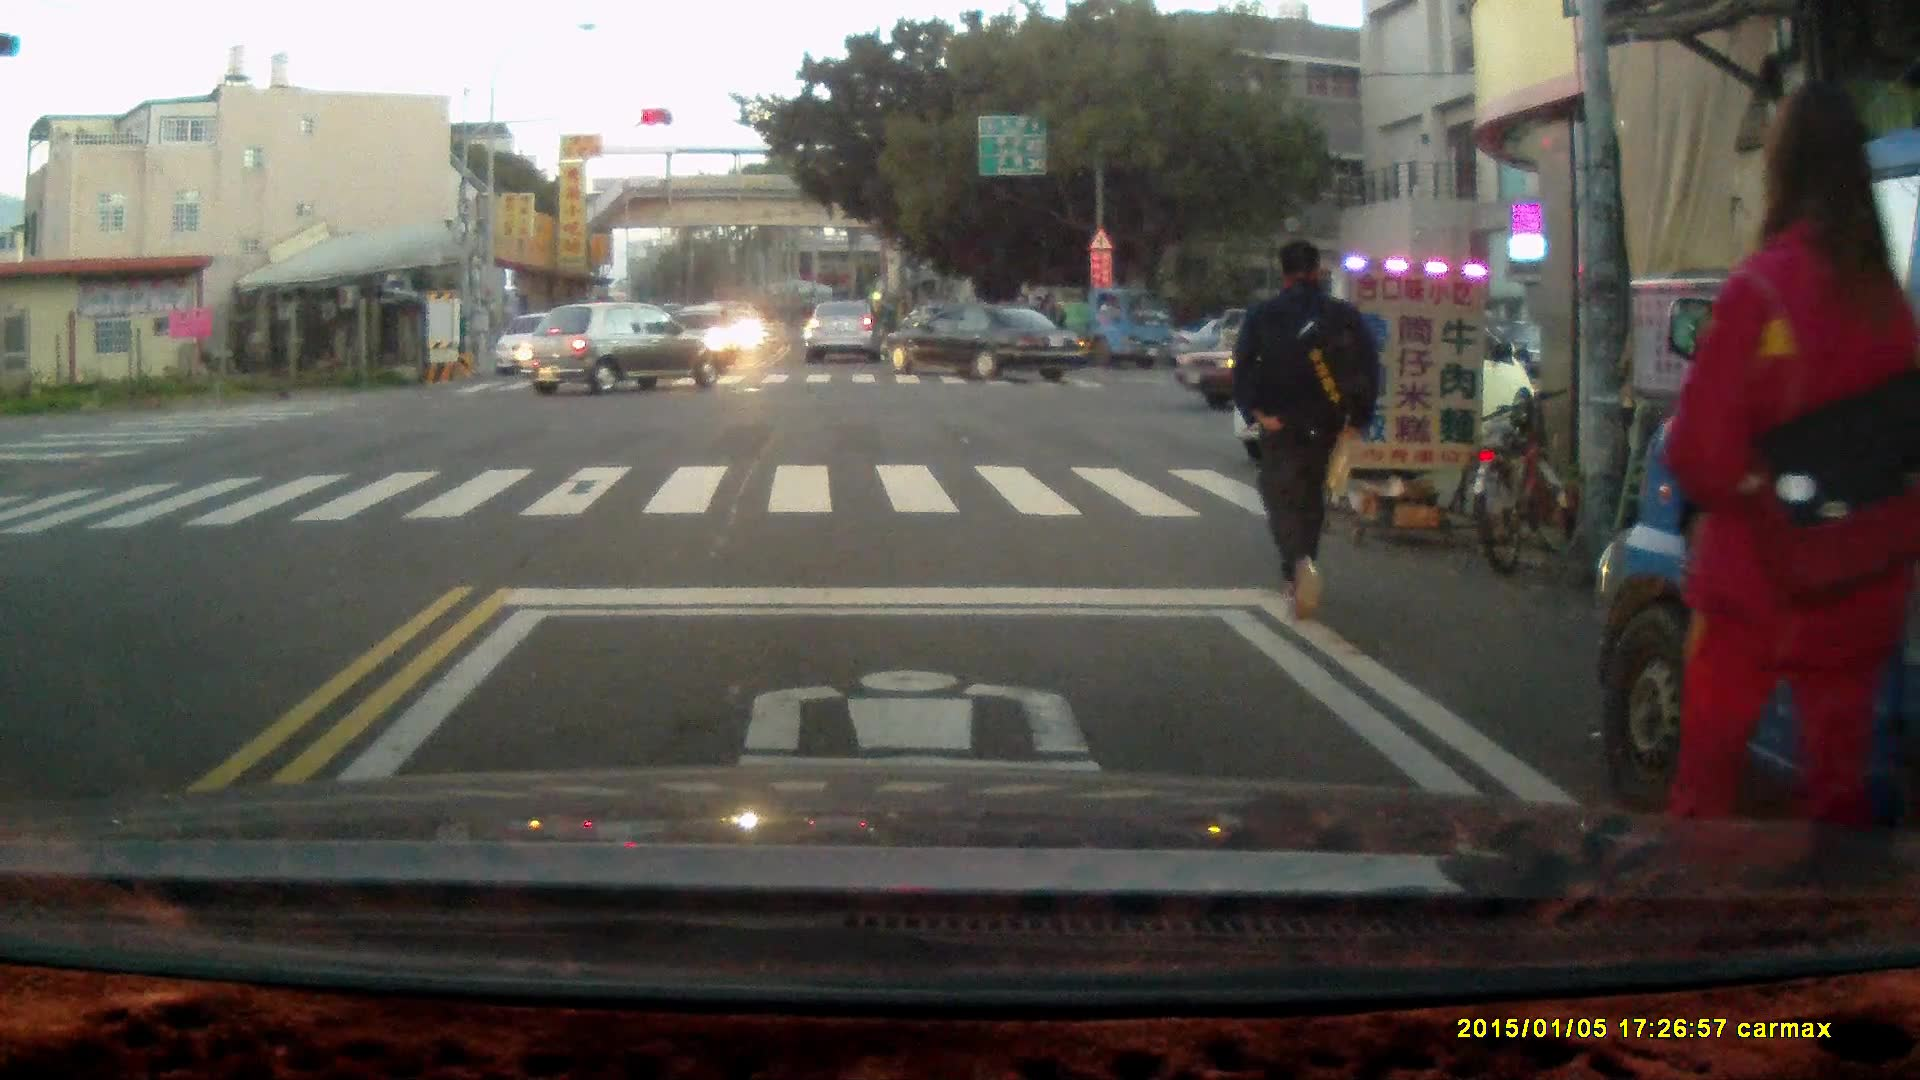pedestrian: (1650, 79, 1920, 864), (1222, 233, 1381, 619)
vehicle: (1598, 132, 1920, 853), (1233, 296, 1533, 459), (516, 304, 732, 398), (878, 303, 1092, 380), (1002, 284, 1176, 367), (806, 302, 886, 370)
